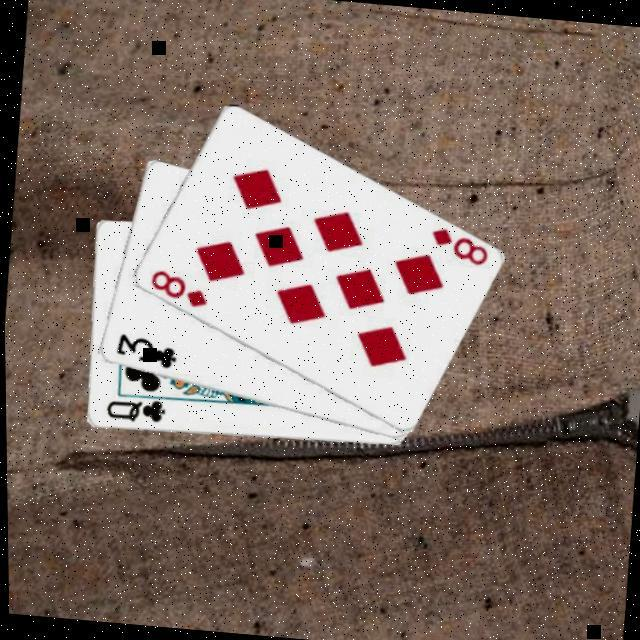3C: (110, 329, 179, 372)
8D: (144, 265, 212, 310), (425, 223, 493, 268)
QC: (102, 393, 168, 426)
